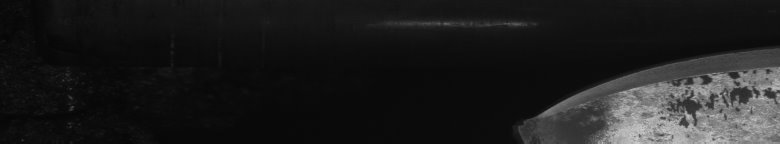kb: (609, 0, 776, 144)
